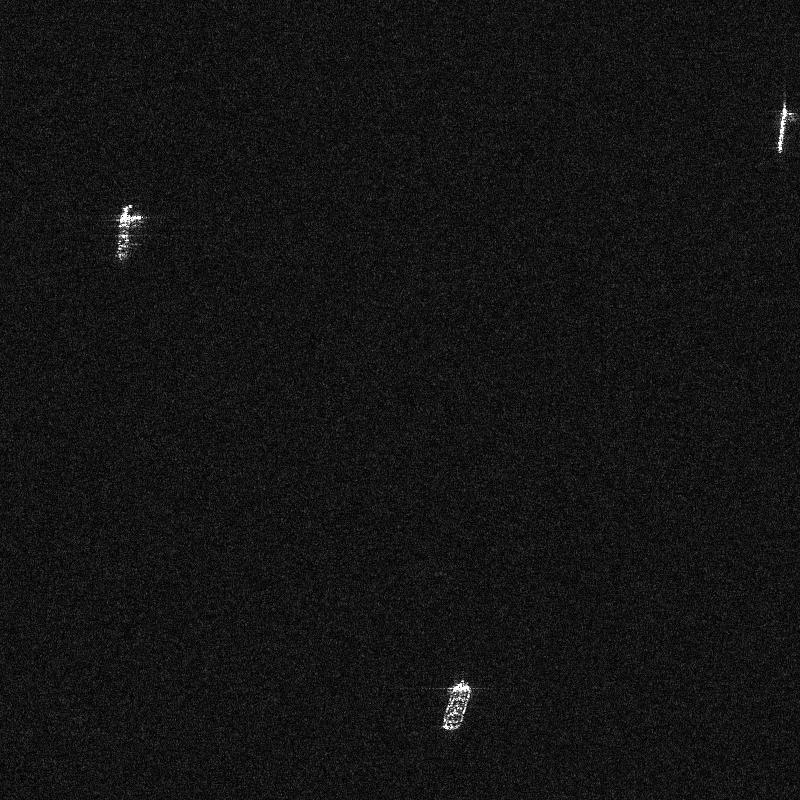ship: (442, 680, 471, 730), (117, 204, 132, 259), (777, 104, 787, 153)
